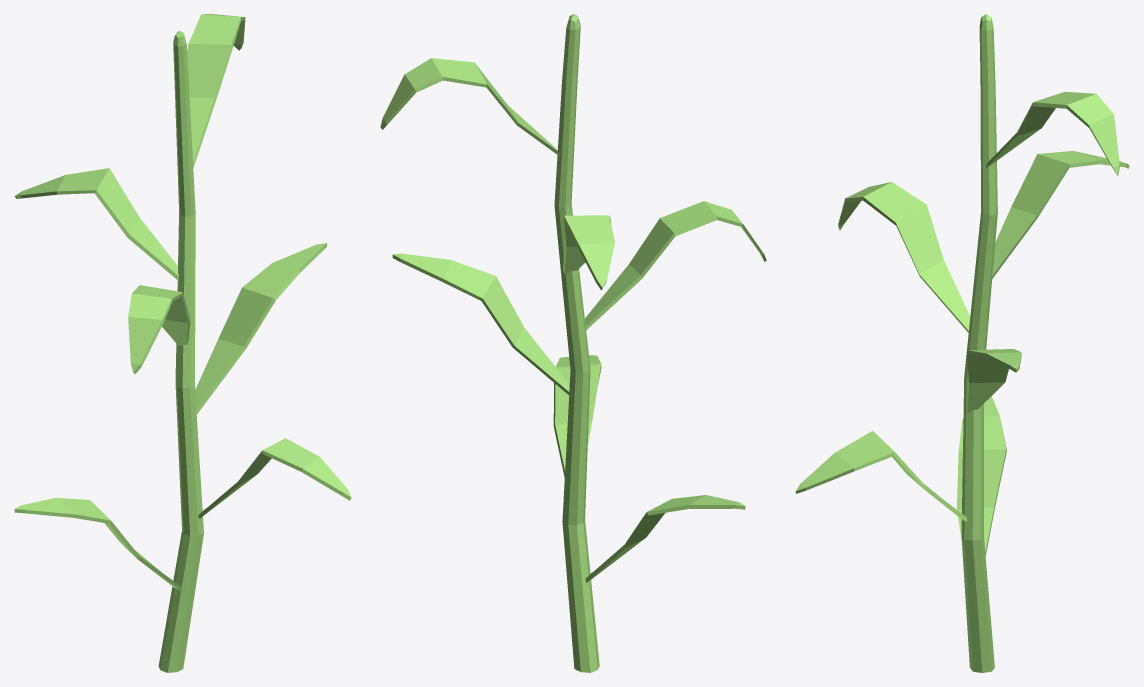
File: corn_3.glb
3 renders of one model, left to right at view 1: azimuth 30°, elevation 25°; view 2: azimuth 150°, elevation 25°; view 3: azimuth 270°, elevation 25°, orthographic. The views are drawn at different scales.
Parts seen in each view (by area): view 1: Corn_3; view 2: Corn_3; view 3: Corn_3.
Part boxes in pixels (<box>): Corn_3: <box>14,14,351,672</box>; Corn_3: <box>380,14,766,672</box>; Corn_3: <box>795,14,1129,672</box>.
Size of the model in its own units: 0.6747 by 1.25 by 0.5725.
